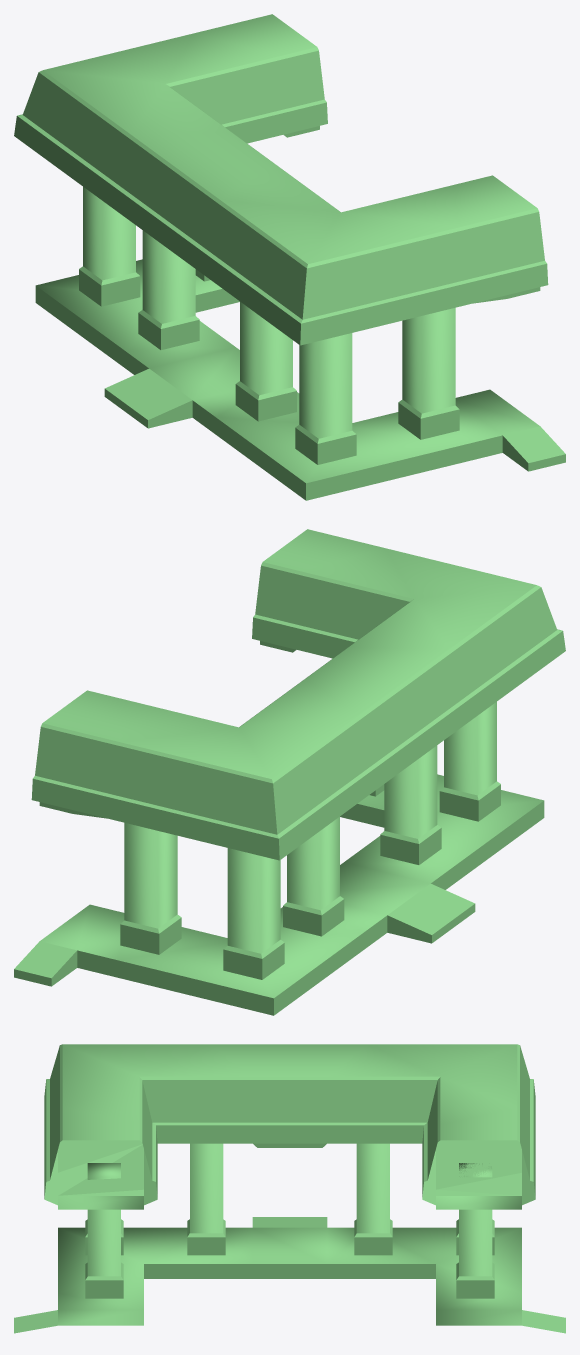
The model's file is maya_civiccenter_a.dae.
3 views of the same model, one above another, from view 1: azimuth 30°, elevation 25°; view 2: azimuth 150°, elevation 25°; view 3: azimuth 270°, elevation 25° (orthographic). The views are drawn at different scales.
Visible parts, largest first — view 1: Box003_001; view 2: Box003_001; view 3: Box003_001.
Boxes of the visible parts, bbox=[...] form: Box003_001: bbox=[14, 14, 565, 500]; Box003_001: bbox=[14, 529, 565, 1015]; Box003_001: bbox=[14, 1044, 565, 1333].
Size of the model in its own units: 59.5 by 119 by 47.65.
